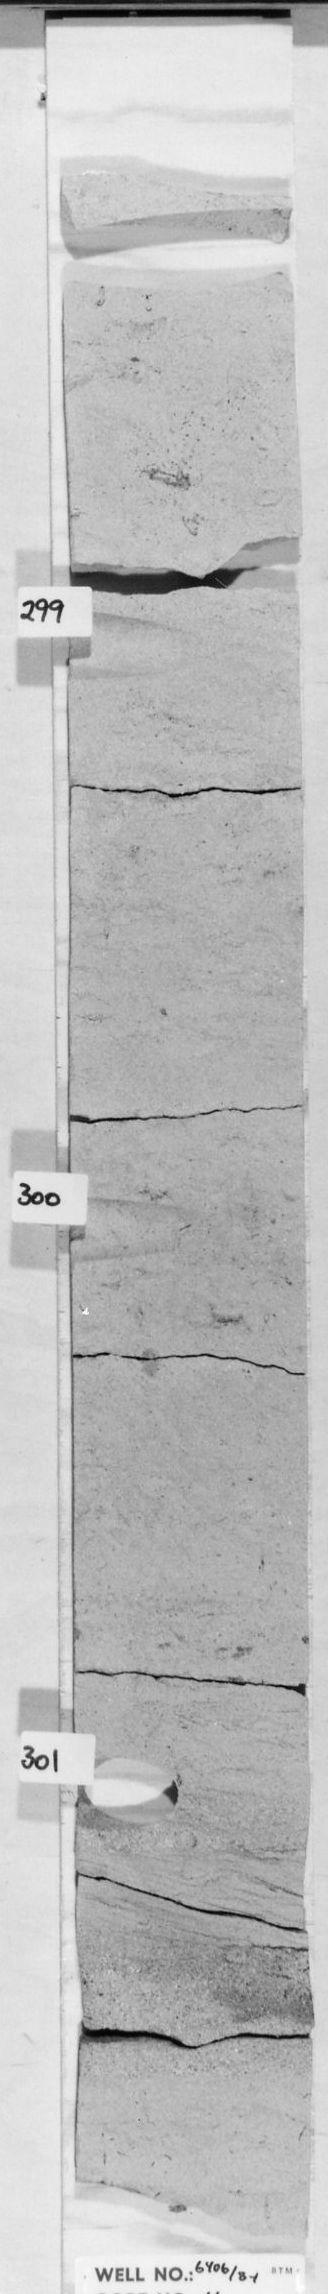hplug: (70, 614, 217, 685), (79, 1201, 215, 1268), (81, 1756, 187, 1840)
scal: (67, 199, 291, 304)
